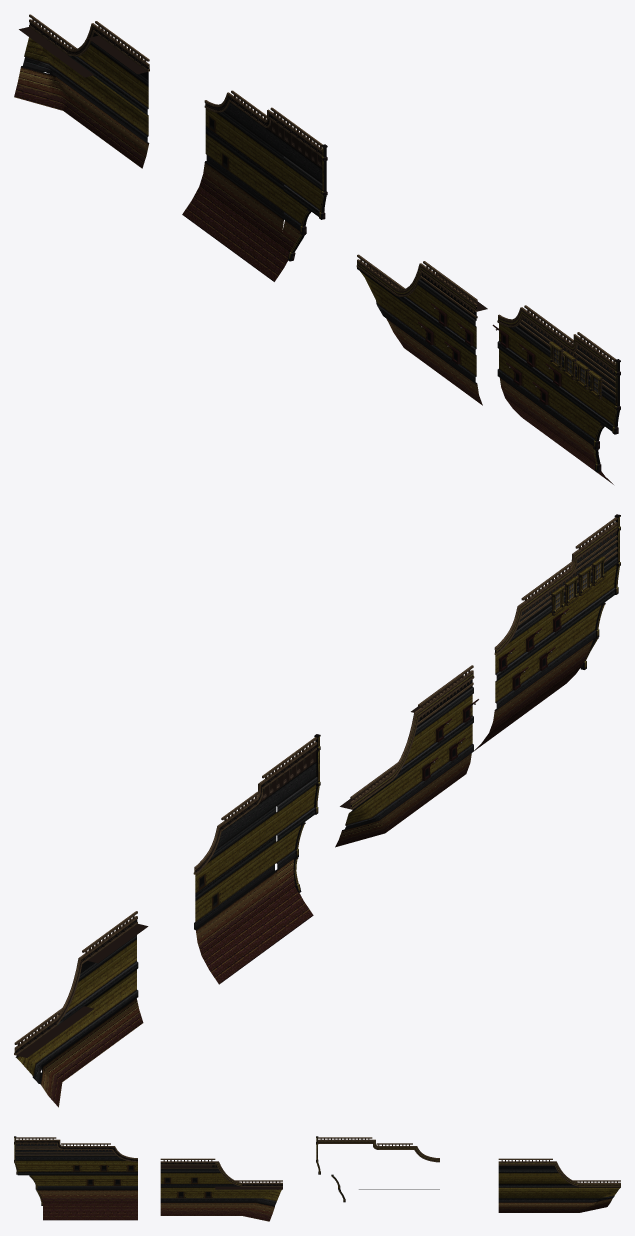
File: EnvMdrMD_Ship_A_GrdWall_A_Spline_A.FBX
The picture shows the model from 3 angles, top to bottom: view 1: azimuth 30°, elevation 25°; view 2: azimuth 150°, elevation 25°; view 3: azimuth 270°, elevation 25°; orthographic projection. The views are drawn at different scales.
Parts seen in each view (by area): view 1: EnvMdrMD_Ship_A_GrdWall_A_Spline_B_Outside, EnvMdrMD_Ship_A_GrdWall_A_Spline_B, EnvMdrMD_Ship_A_GrdWall_A_Spline_A_Outside, EnvMdrMD_Ship_A_GrdWall_A_Spline_A; view 2: EnvMdrMD_Ship_A_GrdWall_A_Spline_B_Outside, EnvMdrMD_Ship_A_GrdWall_A_Spline_B, EnvMdrMD_Ship_A_GrdWall_A_Spline_A_Outside, EnvMdrMD_Ship_A_GrdWall_A_Spline_A; view 3: EnvMdrMD_Ship_A_GrdWall_A_Spline_B, EnvMdrMD_Ship_A_GrdWall_A_Spline_A, EnvMdrMD_Ship_A_GrdWall_A_Spline_A_Outside, EnvMdrMD_Ship_A_GrdWall_A_Spline_B_Outside.
Boxes of the visible parts, <box> form: EnvMdrMD_Ship_A_GrdWall_A_Spline_B_Outside: <box>182,90,327,281</box>; EnvMdrMD_Ship_A_GrdWall_A_Spline_B: <box>492,305,620,484</box>; EnvMdrMD_Ship_A_GrdWall_A_Spline_A_Outside: <box>14,14,149,168</box>; EnvMdrMD_Ship_A_GrdWall_A_Spline_A: <box>356,254,487,405</box>; EnvMdrMD_Ship_A_GrdWall_A_Spline_B_Outside: <box>193,734,320,984</box>; EnvMdrMD_Ship_A_GrdWall_A_Spline_B: <box>474,514,620,750</box>; EnvMdrMD_Ship_A_GrdWall_A_Spline_A_Outside: <box>14,911,148,1107</box>; EnvMdrMD_Ship_A_GrdWall_A_Spline_A: <box>335,665,478,847</box>; EnvMdrMD_Ship_A_GrdWall_A_Spline_B: <box>14,1136,137,1220</box>; EnvMdrMD_Ship_A_GrdWall_A_Spline_A: <box>160,1158,282,1221</box>; EnvMdrMD_Ship_A_GrdWall_A_Spline_A_Outside: <box>498,1158,620,1212</box>; EnvMdrMD_Ship_A_GrdWall_A_Spline_B_Outside: <box>316,1136,439,1202</box>.
Size of the model in its own units: 510 by 1260 by 8931.
3 materials, 3 textured.
